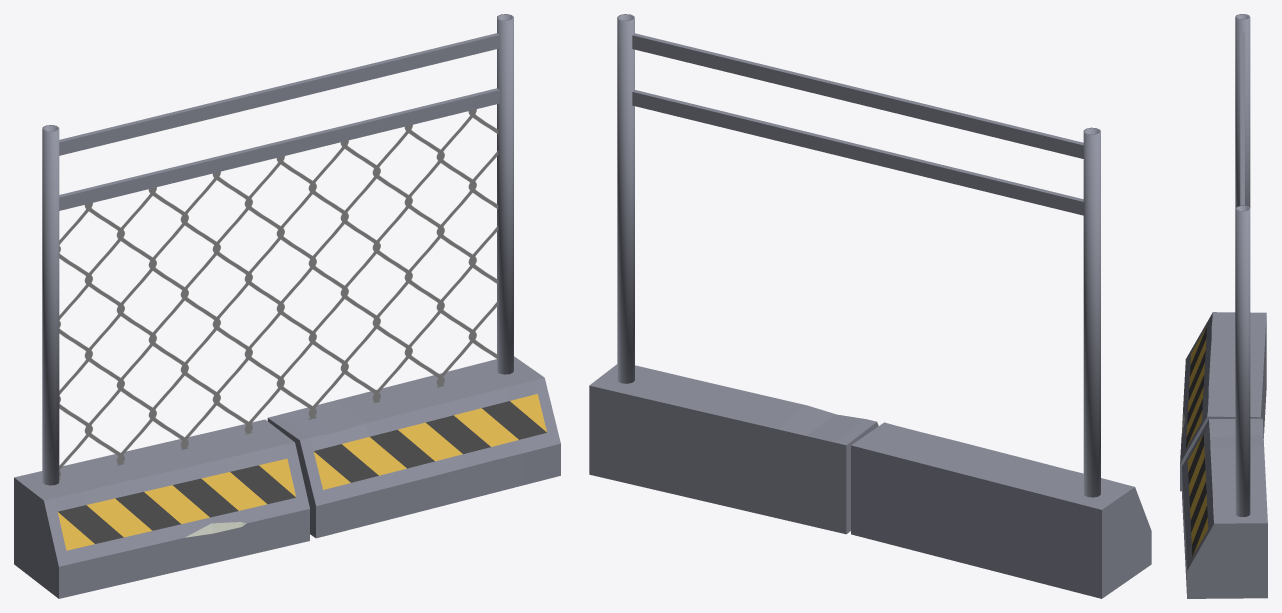
Rendered from barrier_large.021_lev2.glb.
The picture shows the model from 3 angles, left to right: view 1: azimuth 30°, elevation 25°; view 2: azimuth 150°, elevation 25°; view 3: azimuth 270°, elevation 25°; orthographic projection. The views are drawn at different scales.
Parts seen in each view (by area): view 1: barrier_large.021_lev2; view 2: barrier_large.021_lev2; view 3: barrier_large.021_lev2.
Boxes of the visible parts, left/top/right/bottom form: barrier_large.021_lev2: left=14, top=14, right=560, bottom=598; barrier_large.021_lev2: left=589, top=14, right=1151, bottom=598; barrier_large.021_lev2: left=1180, top=14, right=1267, bottom=598.
Size of the model in its own units: 6.77 by 5.67 by 1.19.
5 materials, 1 textured.
